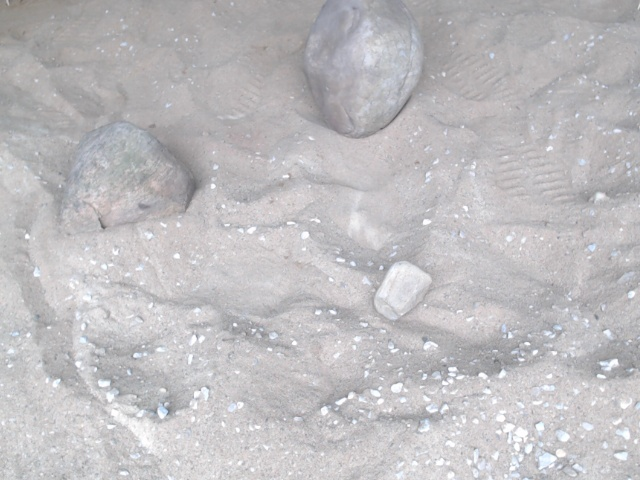rock: (296, 1, 429, 142), (53, 117, 199, 243), (371, 256, 437, 324)
